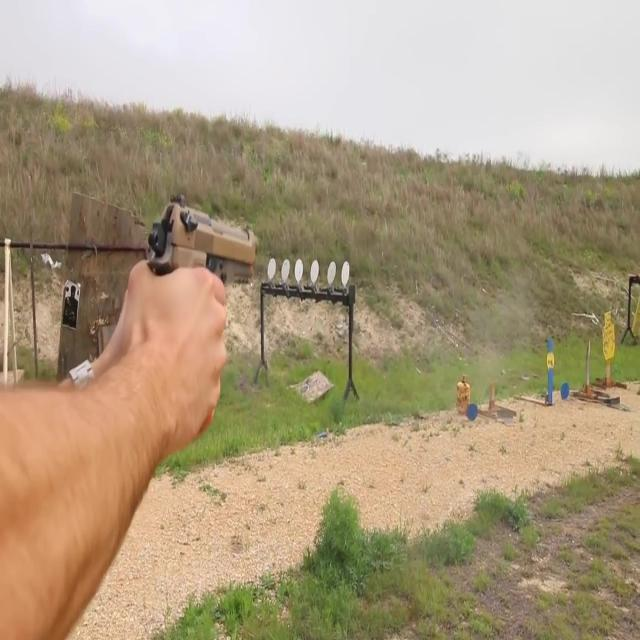Weapon: (104, 156, 310, 360)
